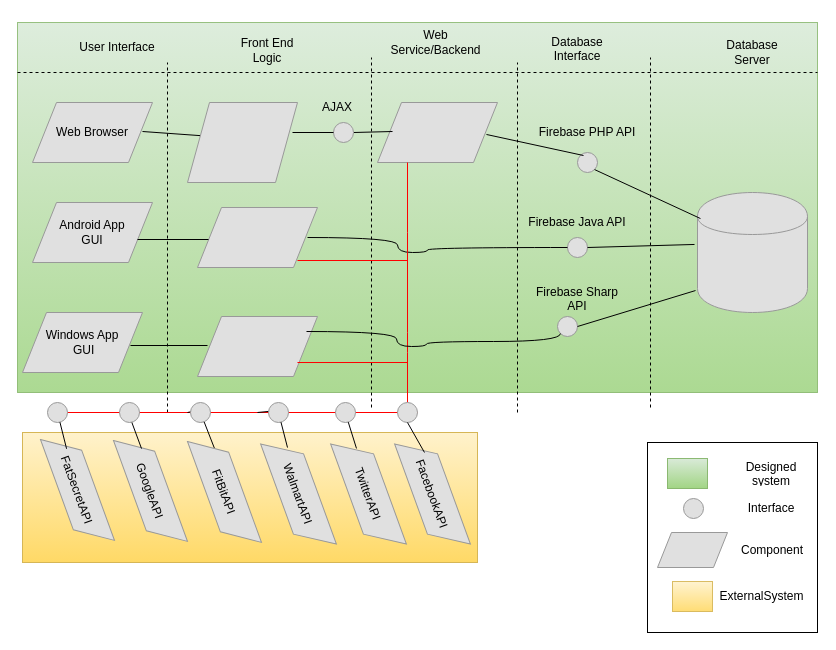
This 836x650 diagram has some shape labels left out. The box of each missing label's shape, as (x1, y1, x2, y2) in pixels:
Android App (Java): (196, 206, 318, 268)
Firebase DB: (696, 192, 808, 312)
PHP backend: (376, 102, 498, 162)
Web Component written in Javascript: (186, 102, 298, 182)
Windows App (C#): (196, 316, 318, 376)
